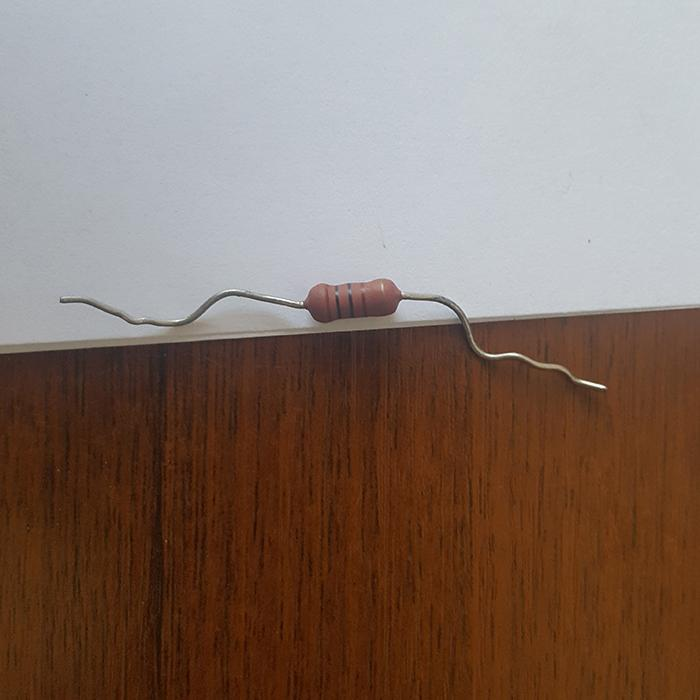resistor: (304, 278, 402, 321)
